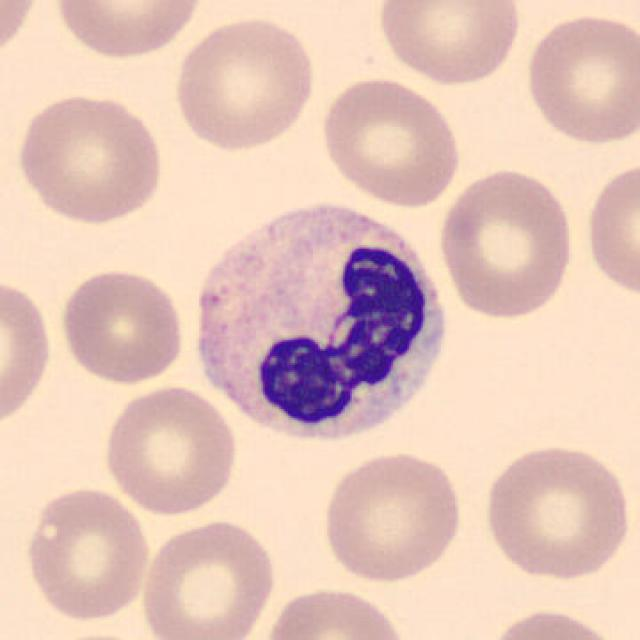Neutrophil: (185, 189, 459, 453)
RBC: (434, 164, 578, 321), (478, 439, 633, 584), (12, 88, 166, 228), (169, 13, 320, 154), (318, 448, 468, 585), (316, 72, 464, 210), (100, 381, 242, 516), (19, 483, 153, 624), (137, 516, 279, 640), (521, 9, 638, 148), (55, 265, 189, 386), (374, 0, 524, 88), (50, 0, 206, 62), (0, 271, 57, 432), (261, 582, 411, 640), (583, 157, 638, 301), (482, 604, 626, 640), (0, 0, 43, 67)
